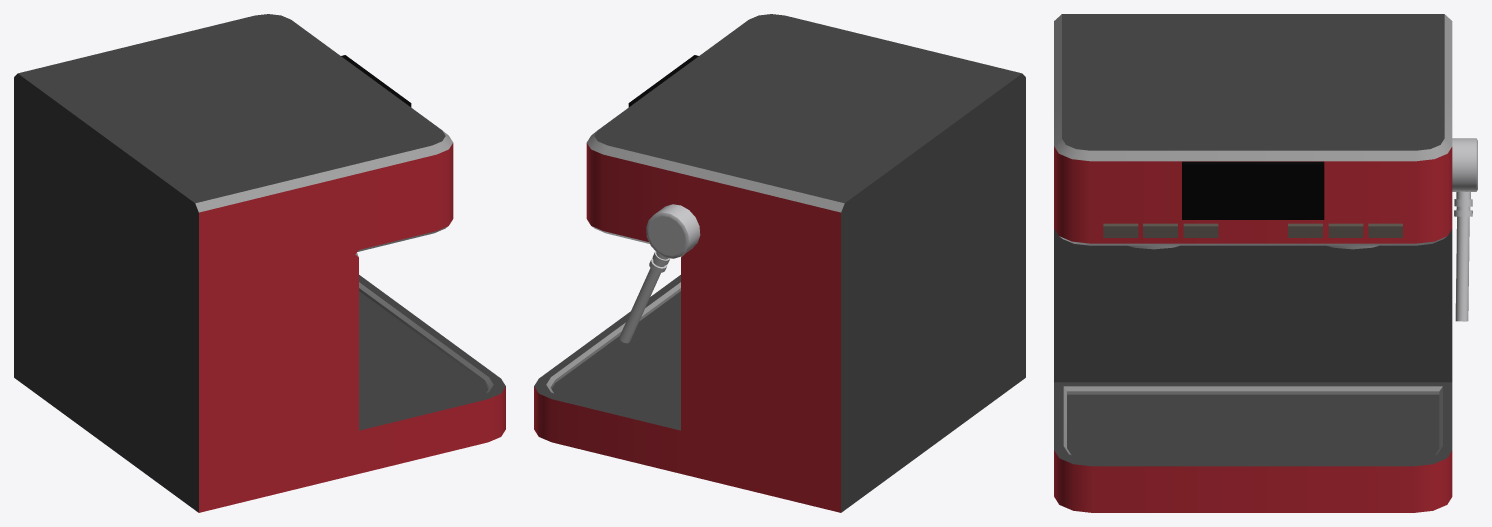
File: Coffee_Machine.fbx
The picture shows the model from 3 angles, left to right: view 1: azimuth 30°, elevation 25°; view 2: azimuth 150°, elevation 25°; view 3: azimuth 270°, elevation 25°; orthographic projection. The views are drawn at different scales.
Parts seen in each view (by area): view 1: Coffee_Machine; view 2: Coffee_Machine; view 3: Coffee_Machine.
Part boxes in pixels (x1,y1,x2,y2): Coffee_Machine: [14, 14, 505, 512]; Coffee_Machine: [534, 14, 1025, 512]; Coffee_Machine: [1054, 14, 1477, 512].
Bounding box in the file's own units: 2 × 1.83 × 2.13.
1 material, 1 textured.
